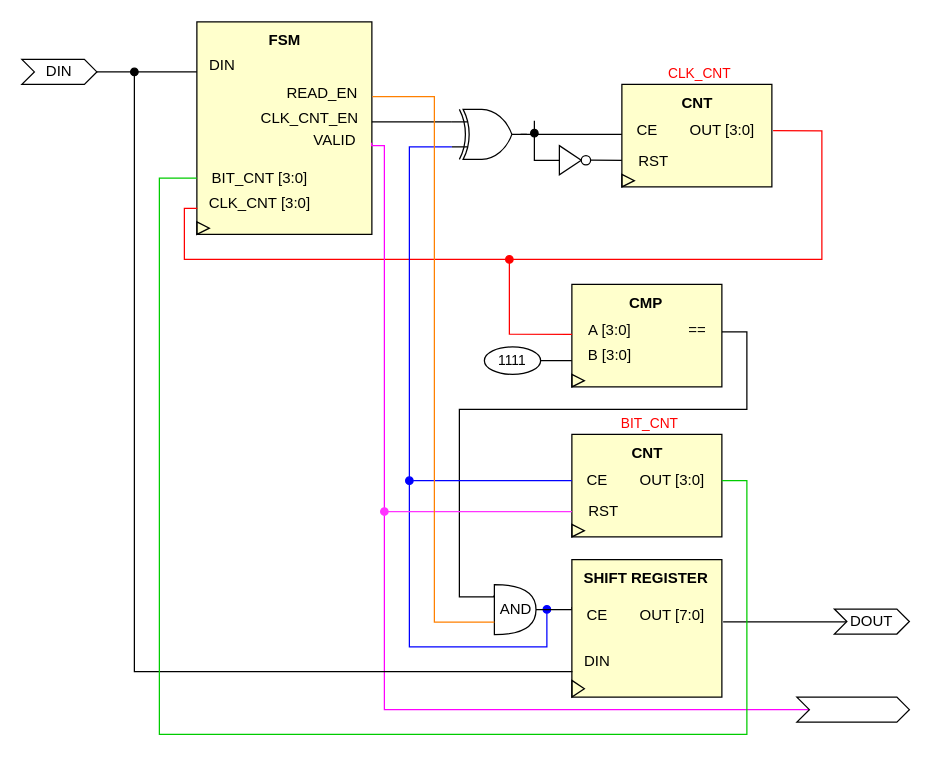
Image size: 931x758. Some labels were removed from this diagram. Here are the shapes that lost their labels. From the top down, the box of each, then its label:
(451, 108, 527, 159): XOR
(796, 696, 909, 722): DOUT_VLD
